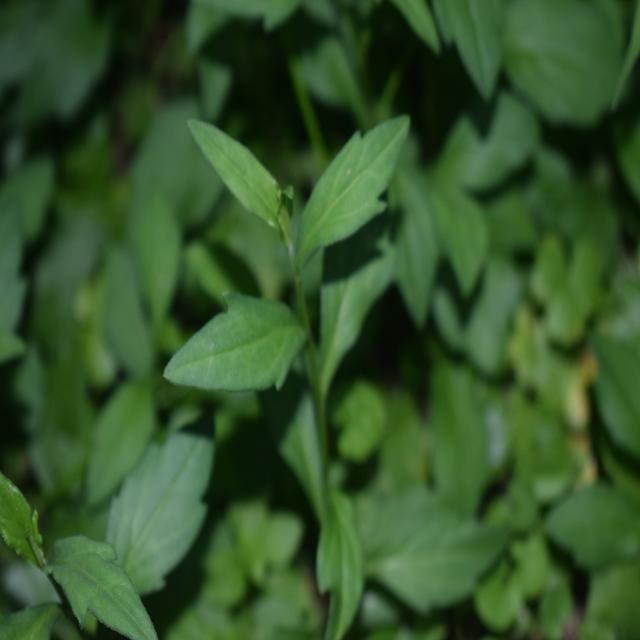Indian aster: (178, 96, 420, 582)
